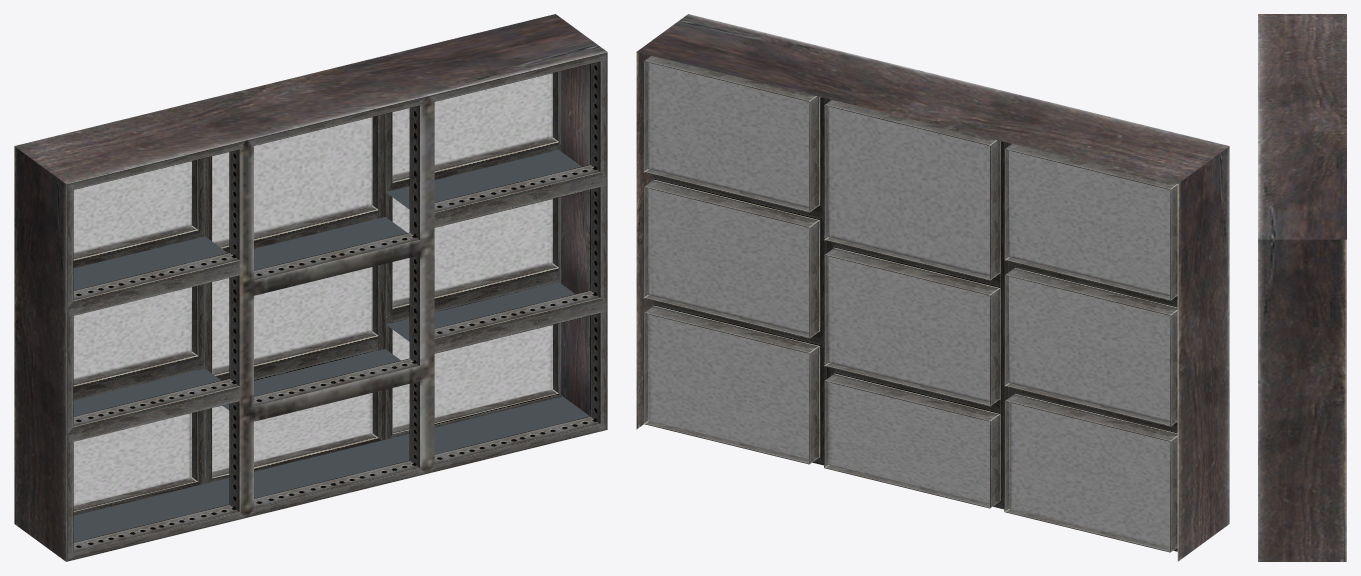
File: gun_rack.fbx
The picture shows the model from 3 angles, left to right: view 1: azimuth 30°, elevation 25°; view 2: azimuth 150°, elevation 25°; view 3: azimuth 270°, elevation 25°; orthographic projection. The views are drawn at different scales.
Parts seen in each view (by area): view 1: mesh_2, mesh_1, mesh_0; view 2: mesh_1, mesh_2; view 3: mesh_2.
Boxes of the visible parts, x1,y1,x2,y2 form: mesh_2: (14, 14, 607, 561); mesh_1: (73, 73, 552, 505); mesh_0: (73, 150, 589, 542); mesh_1: (648, 62, 1170, 547); mesh_2: (636, 14, 1229, 561); mesh_2: (1258, 14, 1346, 561).
Size of the model in its own units: 300 by 200 by 50.
2 materials, 2 textured.
